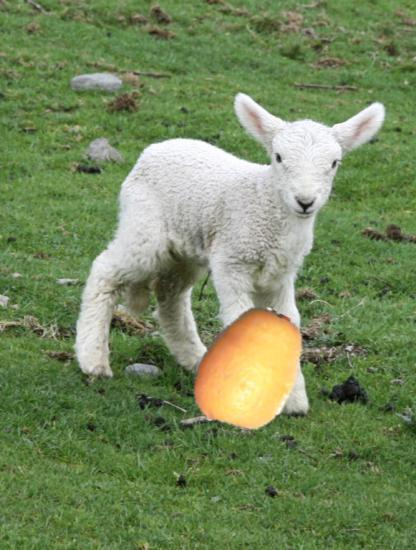Kumquats: (186, 306, 314, 434)
